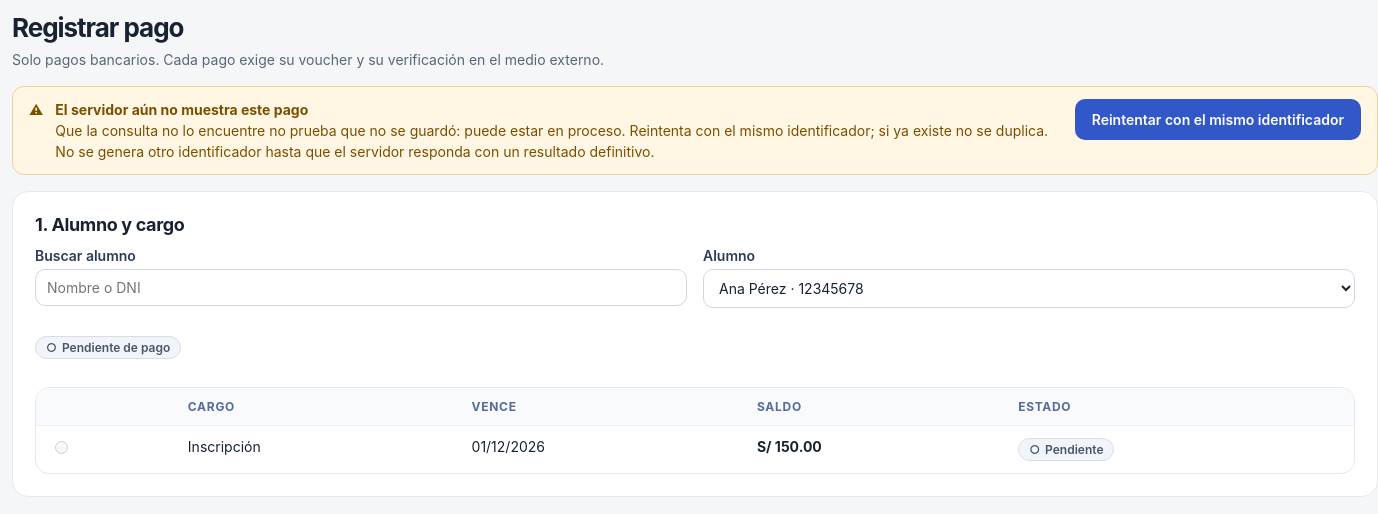
Test case: recuperación de pago tras perder conexión y recargar › si el reintento tampoco responde, sigue el mismo p_payment_id y el formulario bloqueado
The image size is (1378, 514).
Click the button "Reintentar con el mismo identificador".
click(1218, 120)  # box [1075, 99, 1361, 140]
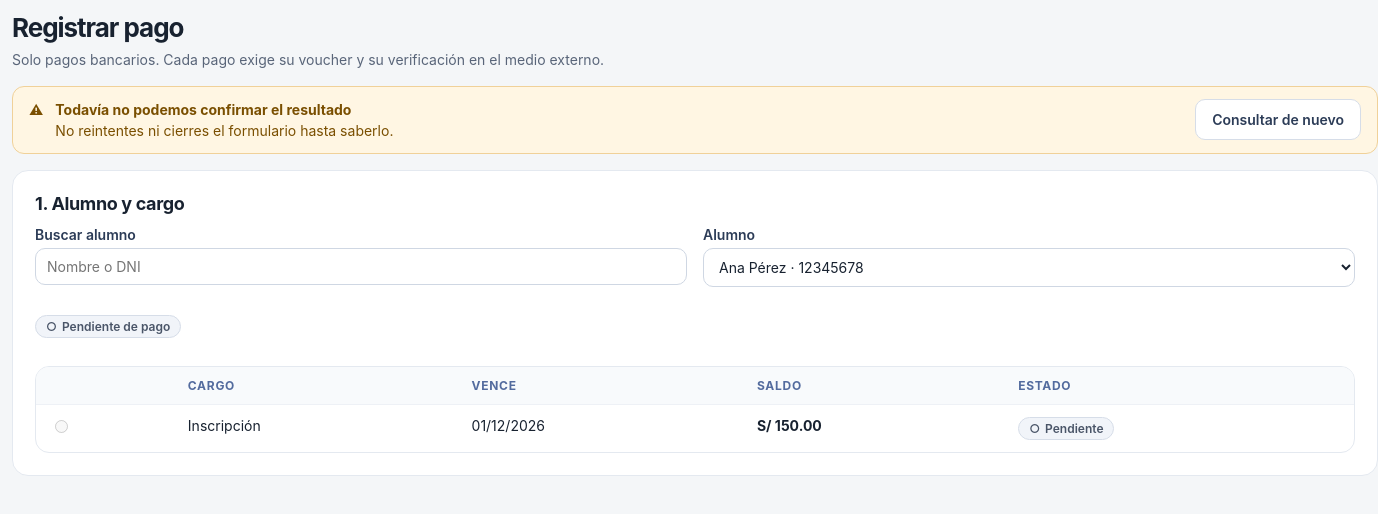
Result: the text "Todavía no podemos confirmar el resultado" is shown at [55, 101, 352, 118]
